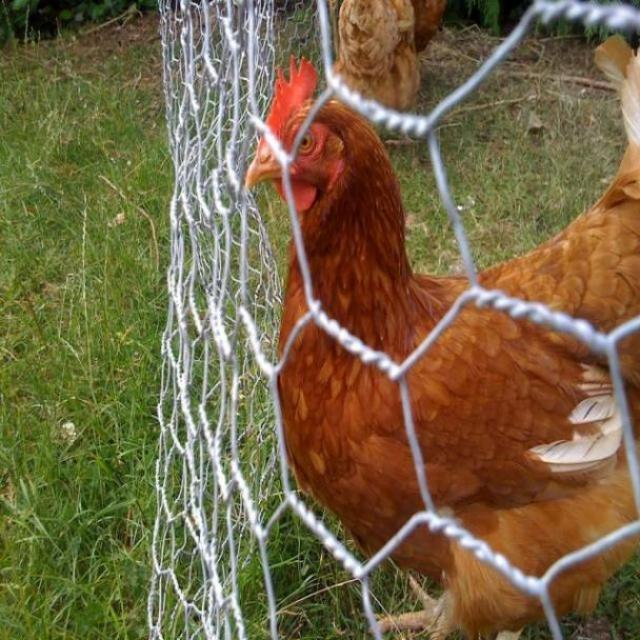Chicken: (248, 50, 636, 621)
